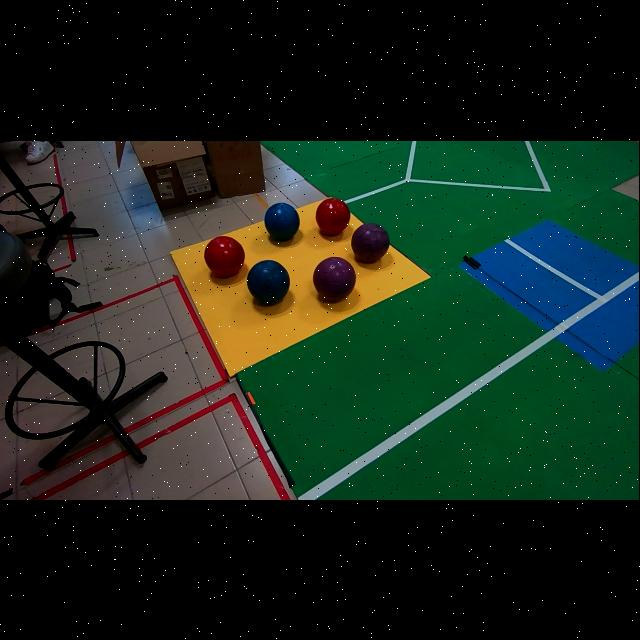B: (247, 259, 290, 305), (265, 202, 300, 239)
P: (314, 256, 355, 301), (351, 221, 390, 263)
R: (205, 236, 245, 276), (317, 197, 351, 235)
